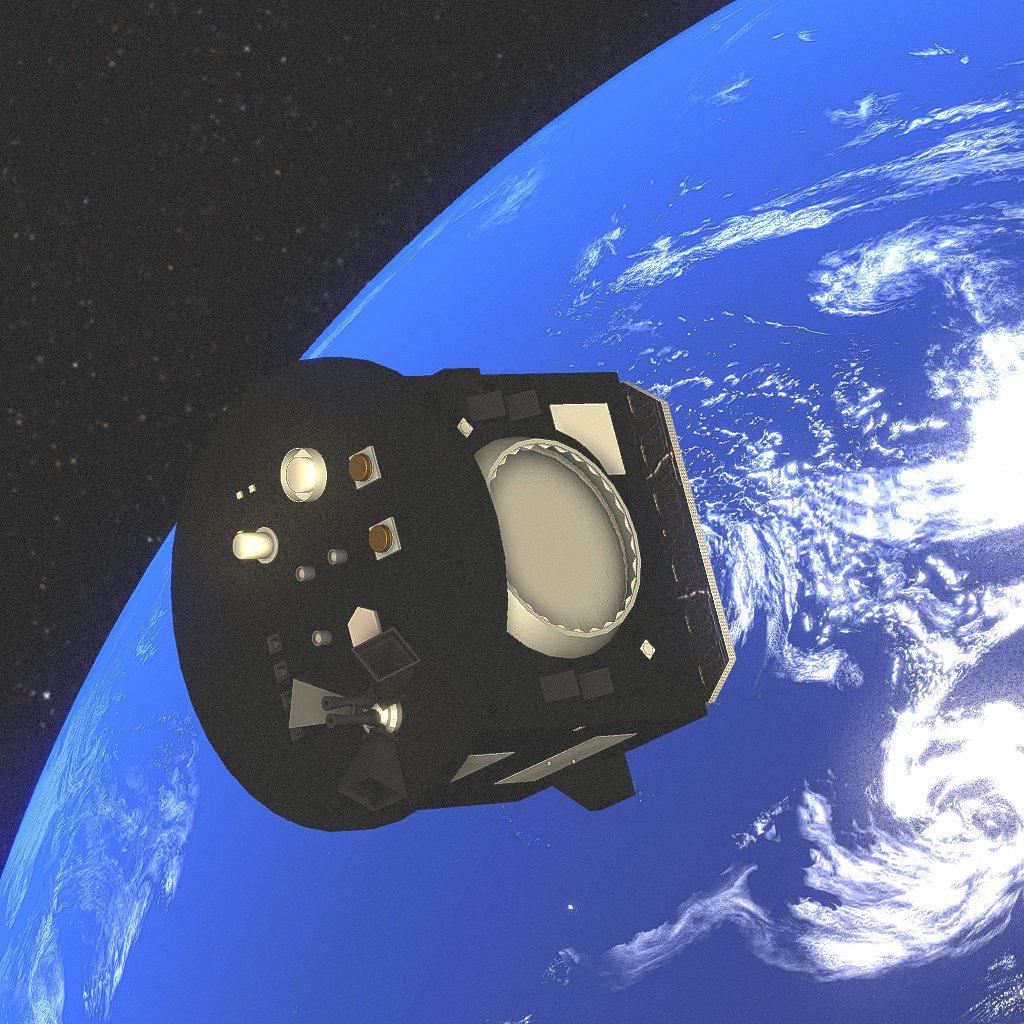proba_3_ocs: (219, 360, 711, 809)
